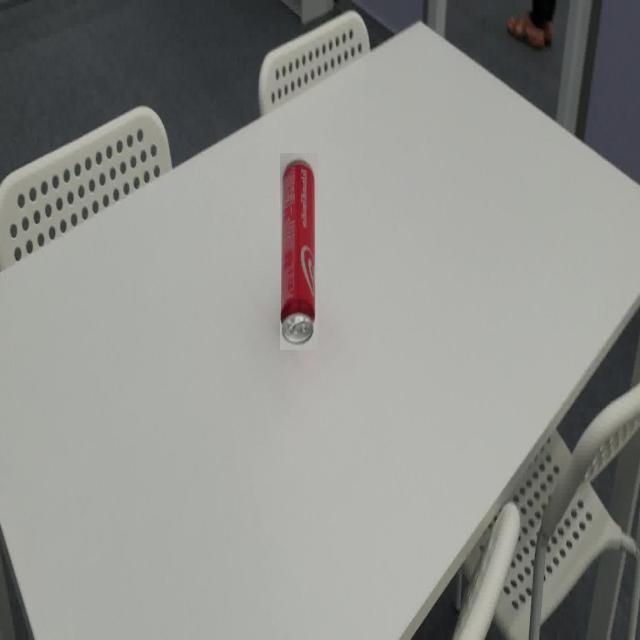coca-cola: (280, 153, 318, 350)
